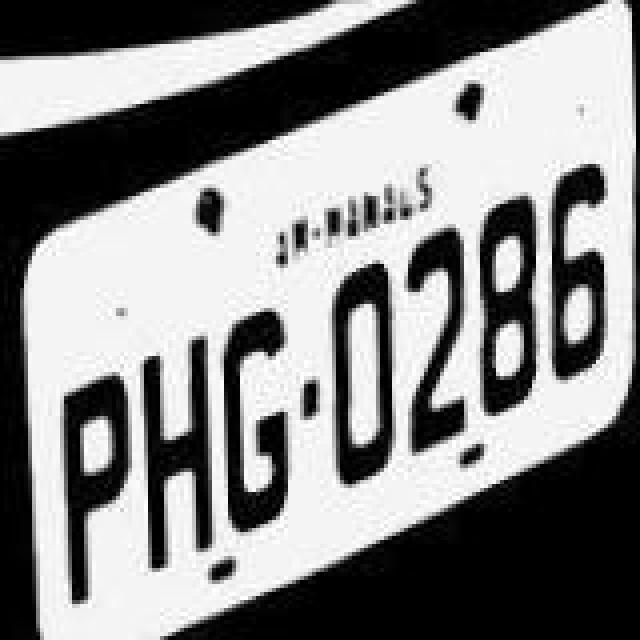2: (390, 224, 474, 456)
6: (536, 158, 620, 382)
8: (472, 192, 552, 420)
G: (212, 300, 292, 536)
H: (136, 330, 224, 566)
O: (320, 252, 404, 488)
P: (52, 370, 144, 606)
